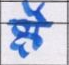ai_matra: (23, 1, 51, 21)
